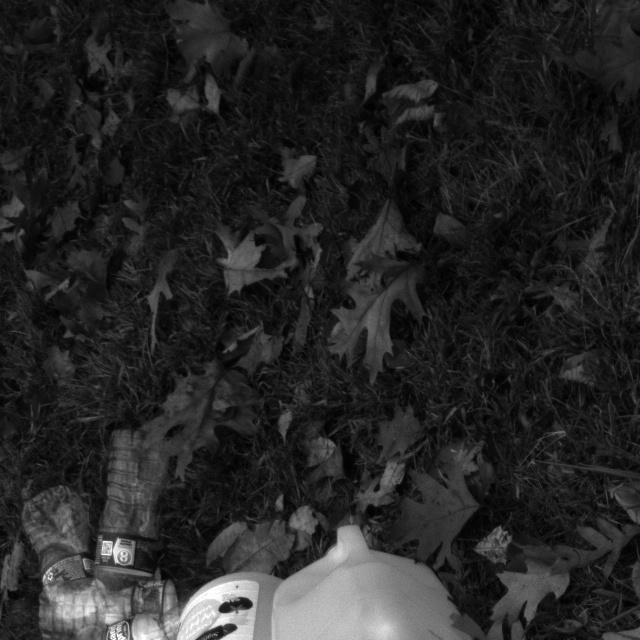bottle: (83, 431, 177, 627)
can: (269, 531, 477, 640), (155, 573, 312, 640)
